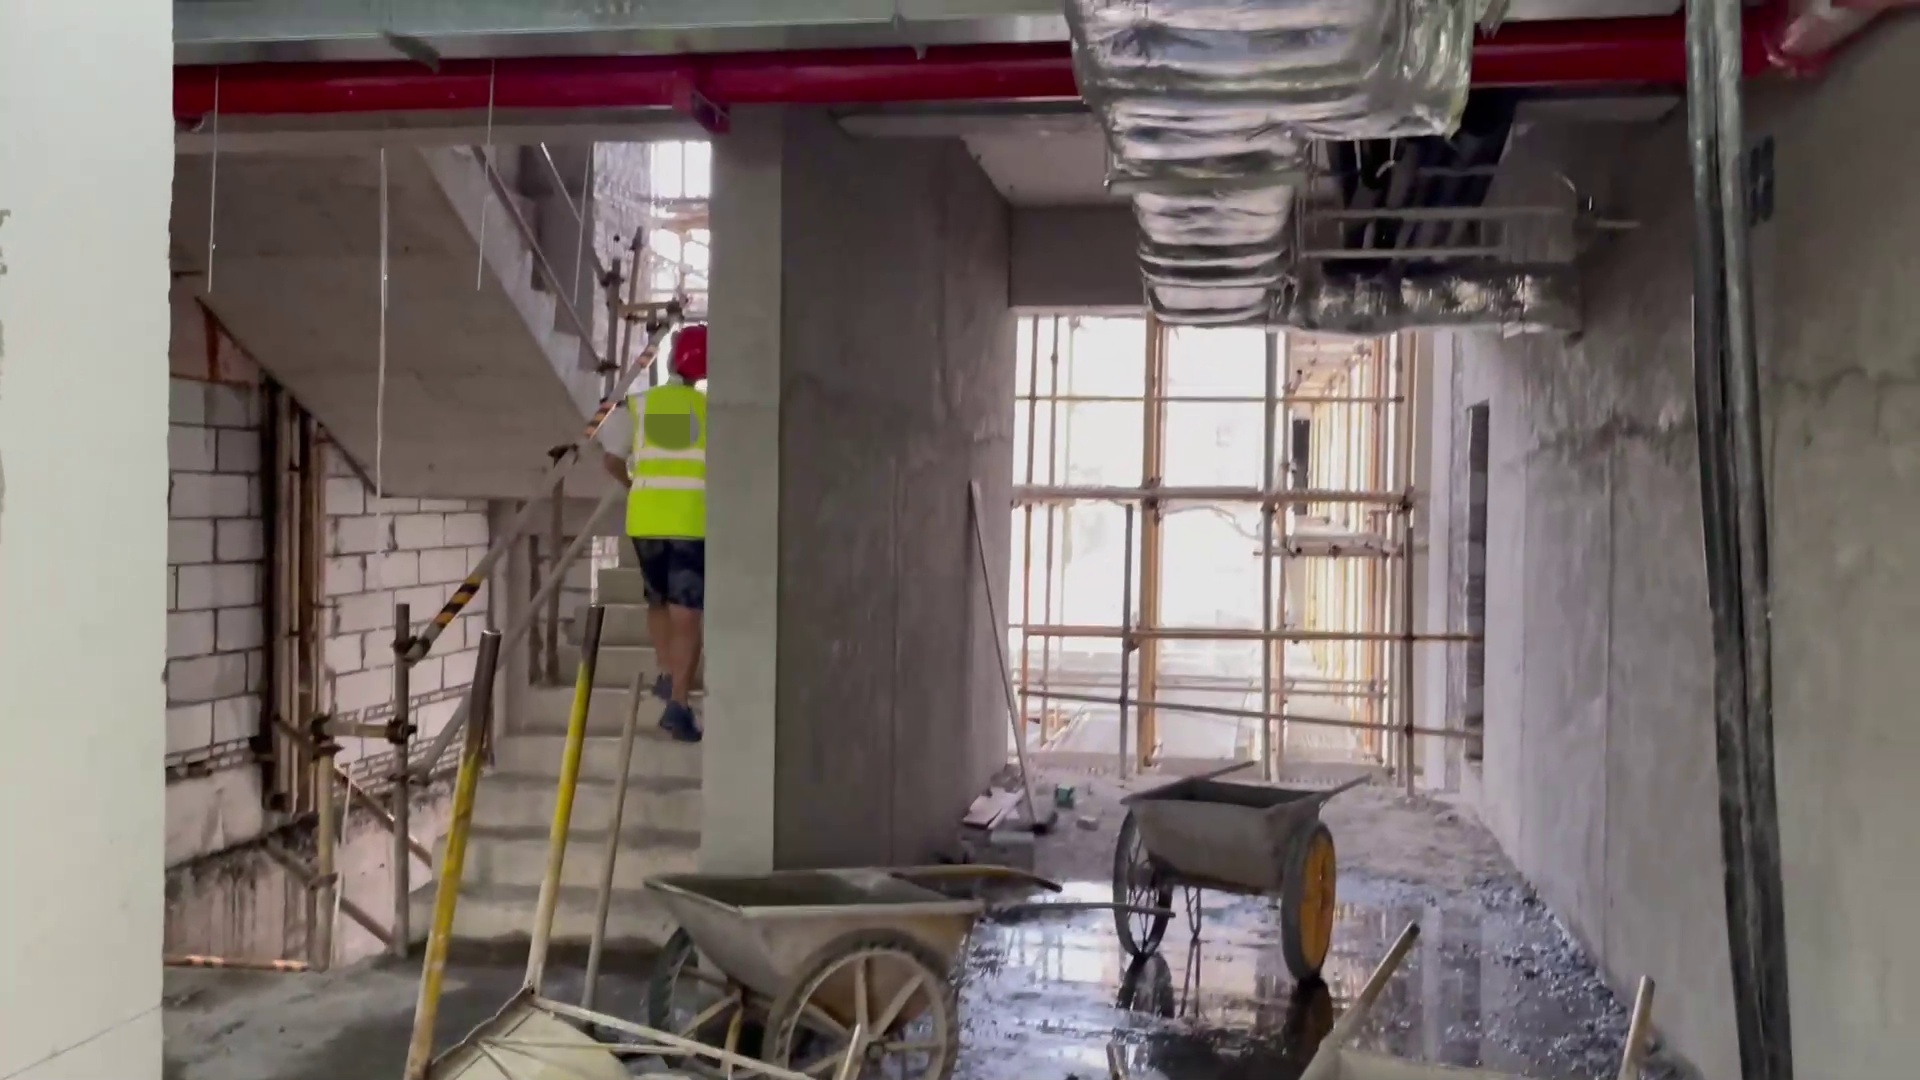handcart: (607, 850, 1085, 1068), (1079, 736, 1385, 987)
helmet: (667, 314, 714, 375)
person: (600, 303, 731, 768)
vest: (628, 380, 712, 544)
